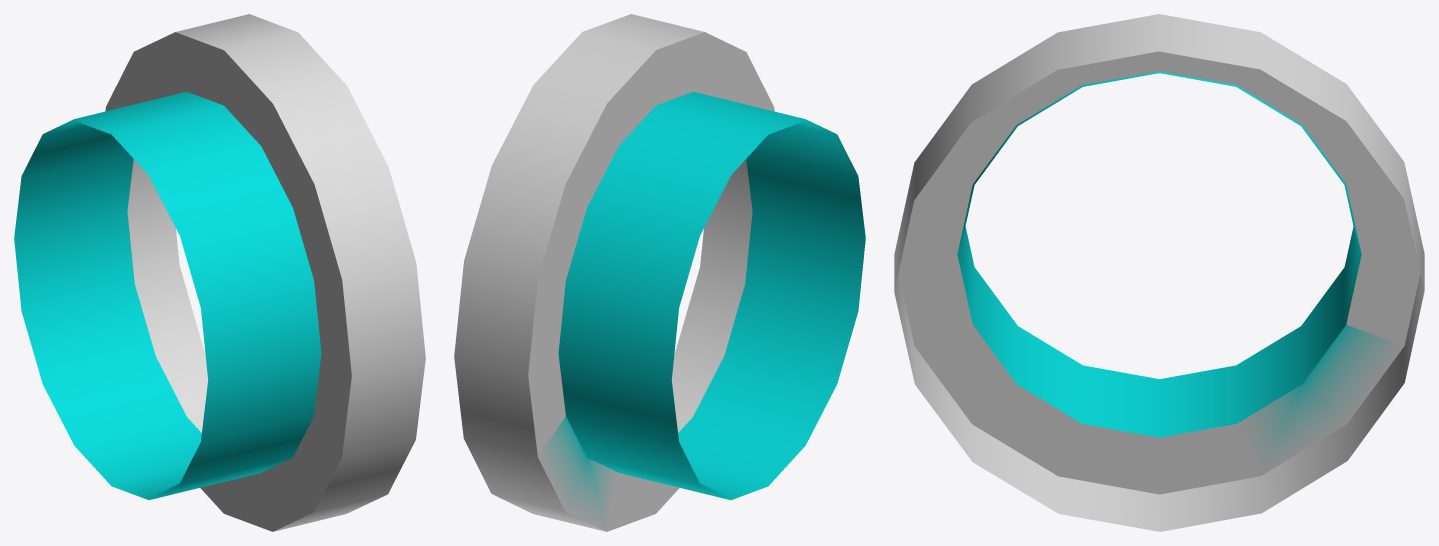
Rendered from FluidConnector_LOD1.fbx.
3 renders of one model, left to right at view 1: azimuth 30°, elevation 25°; view 2: azimuth 150°, elevation 25°; view 3: azimuth 270°, elevation 25°, orthographic. The views are drawn at different scales.
Visible parts, largest first — view 1: FluidConnector_Right.001; view 2: FluidConnector_Right.001; view 3: FluidConnector_Right.001.
Boxes of the visible parts, x1,y1,x2,y2 form: FluidConnector_Right.001: (14,14,425,531); FluidConnector_Right.001: (454,14,865,531); FluidConnector_Right.001: (894,14,1424,531).
Size of the model in its own units: 0.164 by 0.3896 by 0.3896.
